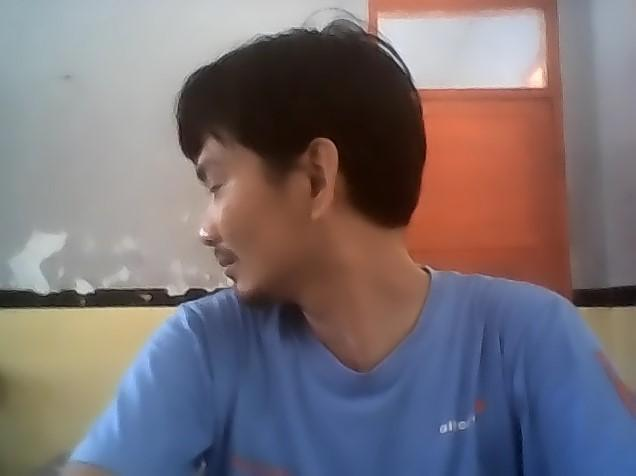cheating: (46, 8, 636, 476)
